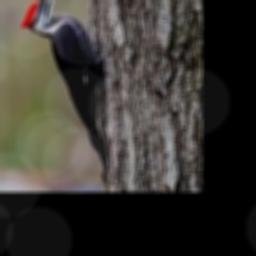Woodpecker: (19, 0, 111, 179)
